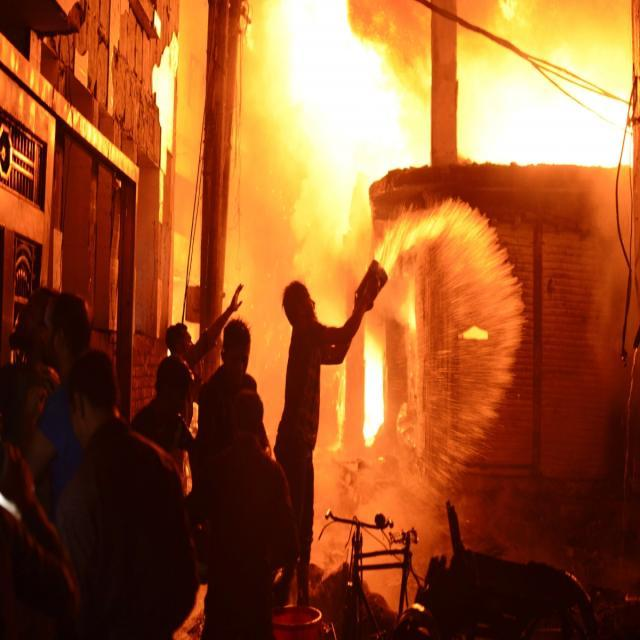Fire: (157, 0, 640, 640)
